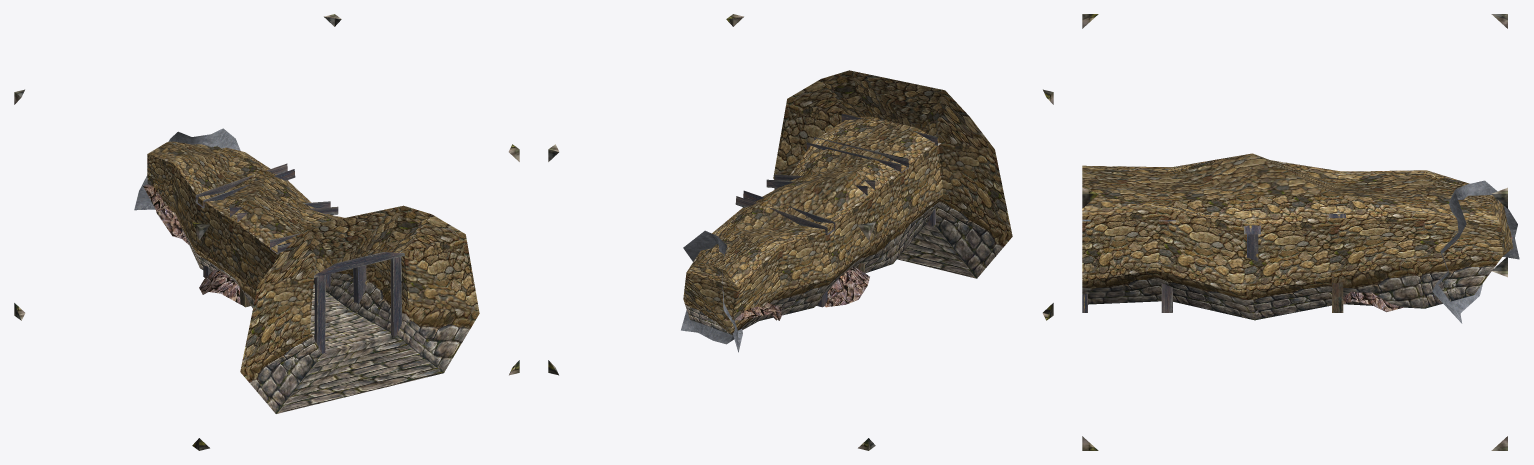
File: Lbm_1d.glb
3 views of the same model, side by side, from view 1: azimuth 30°, elevation 25°; view 2: azimuth 150°, elevation 25°; view 3: azimuth 270°, elevation 25° (orthographic). The views are drawn at different scales.
Parts seen in each view (by area): view 1: Lbm_1d-col; view 2: Lbm_1d-col; view 3: Lbm_1d-col.
Boxes of the visible parts, x1,y1,x2,y2 form: Lbm_1d-col: (14, 14, 519, 450); Lbm_1d-col: (548, 14, 1053, 450); Lbm_1d-col: (1082, 14, 1519, 450).
Size of the model in its own units: 15 by 10 by 15.42.
Materials: 8 (8 with a texture image).
